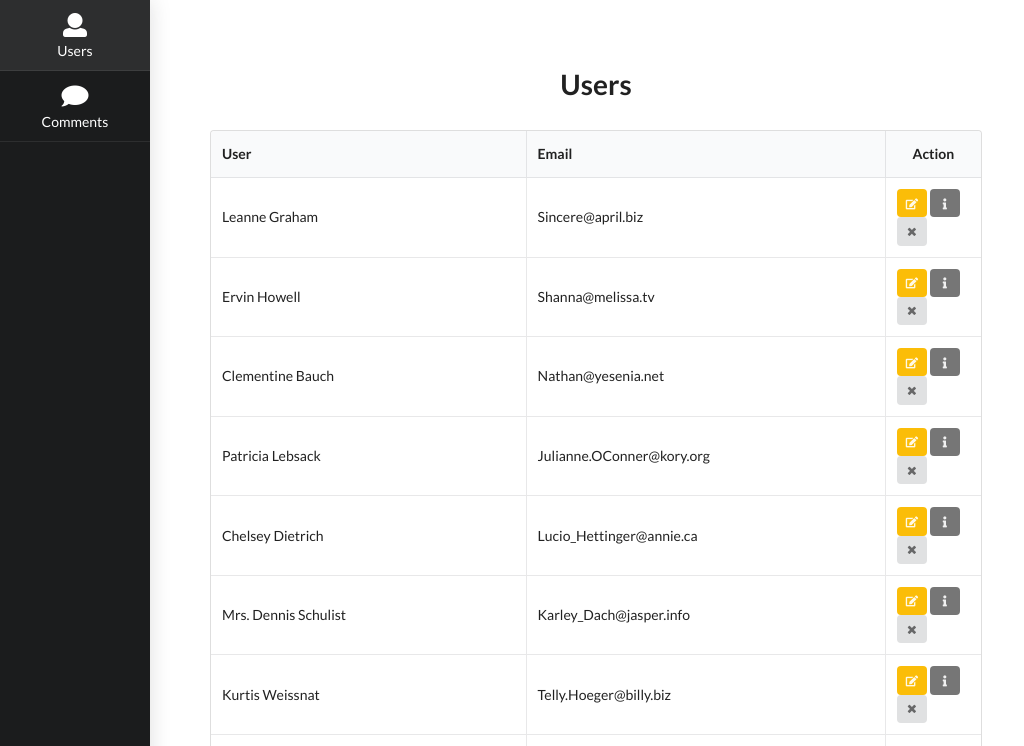
Test case: Testing Post Page › should delete post 1 from user with id 1
Step 1. Click the button with test id "info-button-1" → click(945, 203), box [930,189,960,217]
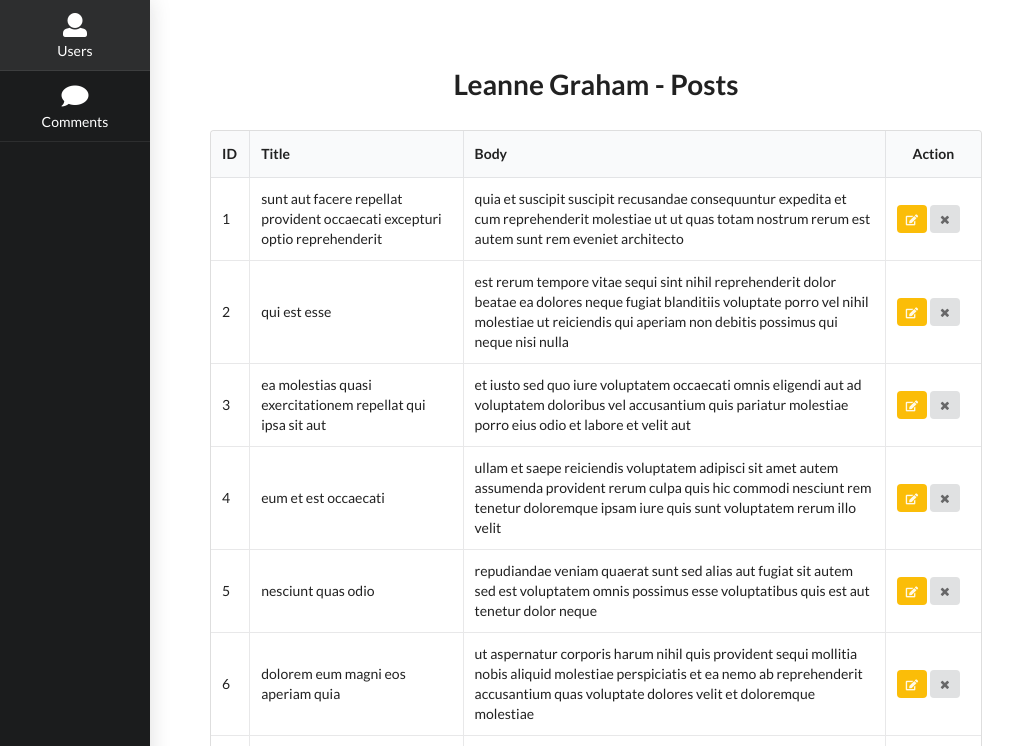
Expected: the text "sunt aut facere" is shown, [261,190,442,247]
Step 2. Click the button with test id "delete-button-1" → click(945, 219), box [930,205,960,233]
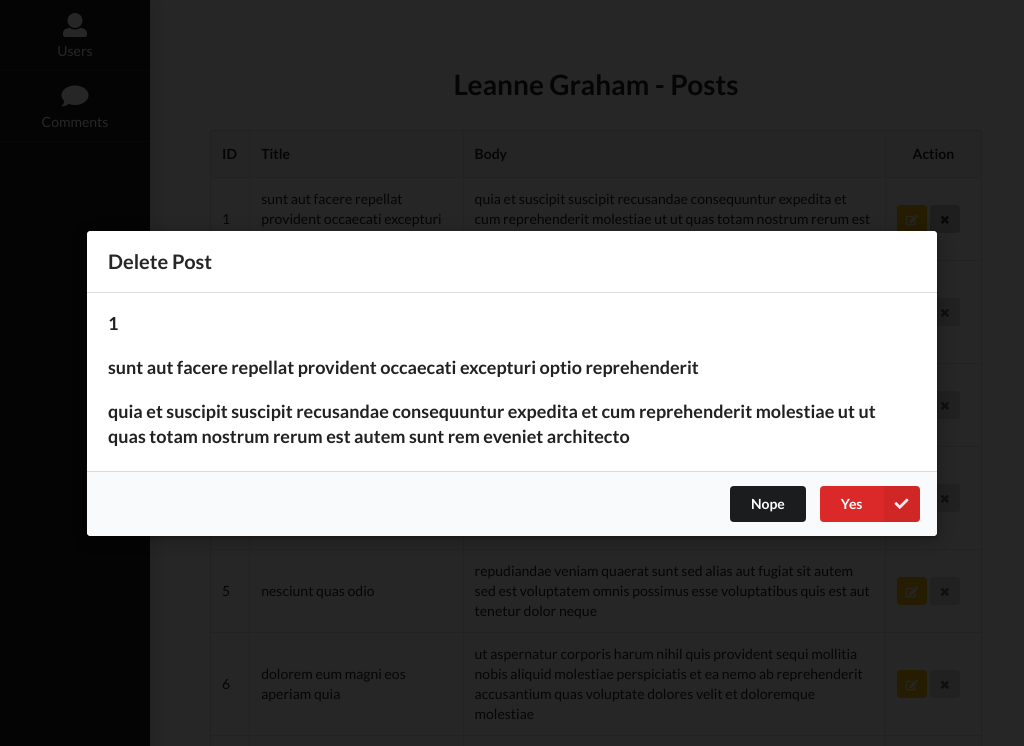
Step 3. Click the button with test id "yes-button" → click(870, 504), box [820,486,920,522]
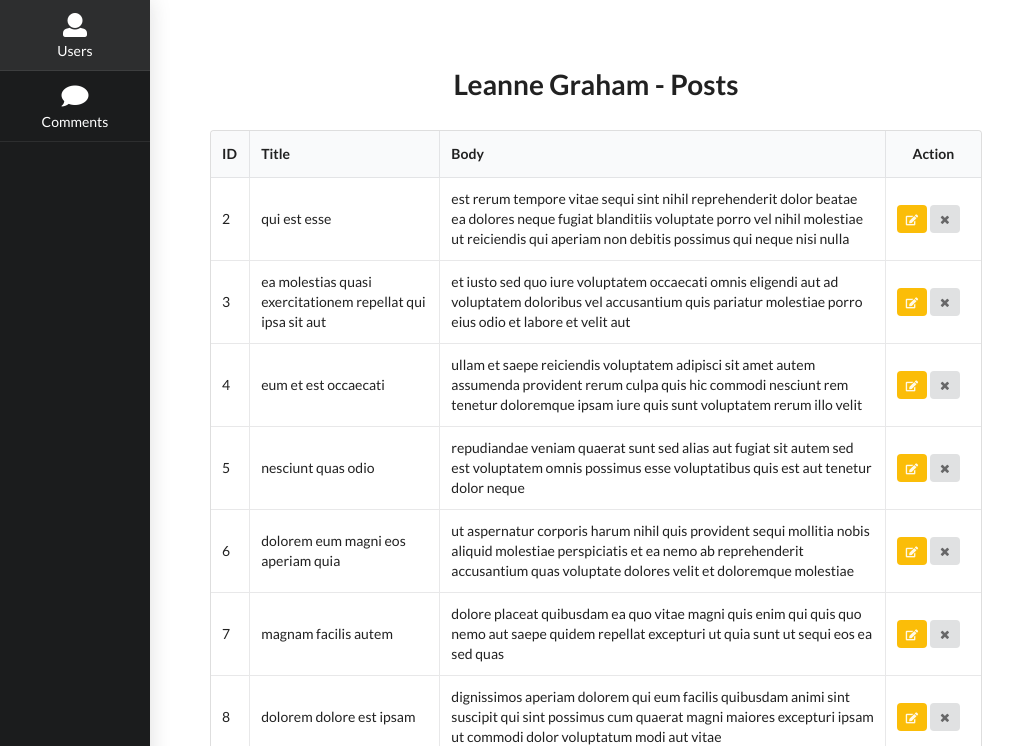
Expected: the text "sunt aut facere" is gone
